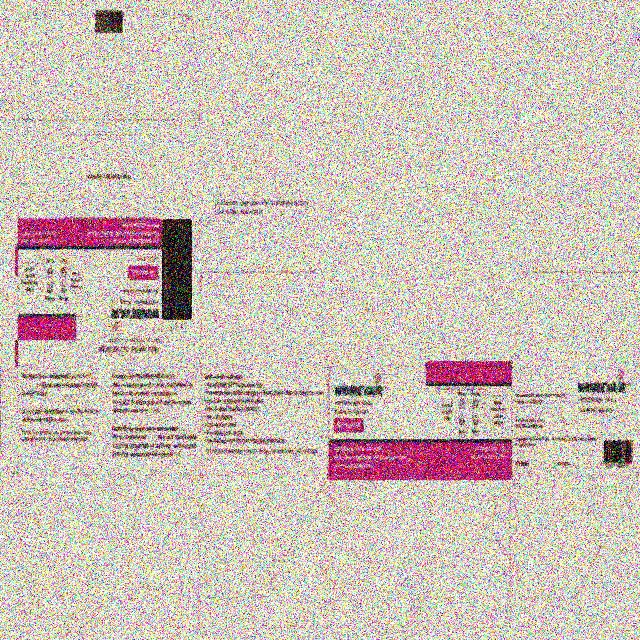Artwork: (0, 0, 640, 640)
Bottom_Part: (18, 367, 201, 474)
Extra_Areas: (18, 474, 201, 628), (329, 474, 511, 628), (18, 14, 201, 119), (201, 475, 328, 601), (513, 475, 639, 599), (512, 270, 640, 367), (201, 271, 328, 366), (1, 367, 18, 475), (425, 360, 513, 366), (14, 338, 18, 366), (15, 245, 18, 277)
Front_Panel: (18, 118, 201, 367)
Side_Panel: (201, 367, 329, 474), (513, 367, 639, 475)
Top_Panel: (329, 367, 513, 474)
